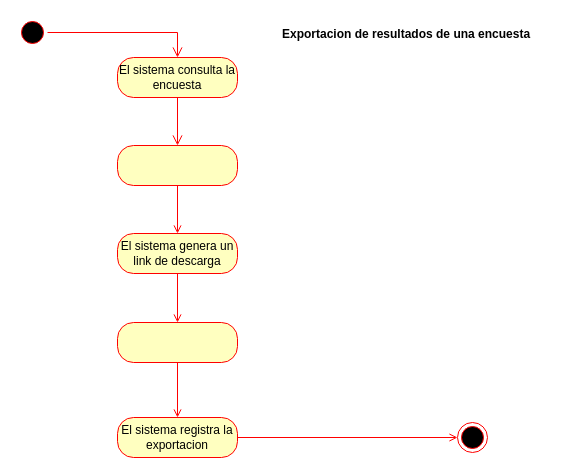
This 565x475 diagram has some shape labels left out. The centre of each missing label's shape, as x and y in pixels:
El sistema envia link de descarga: the point at 177,342
El sistema genera el documento: the point at 177,165
